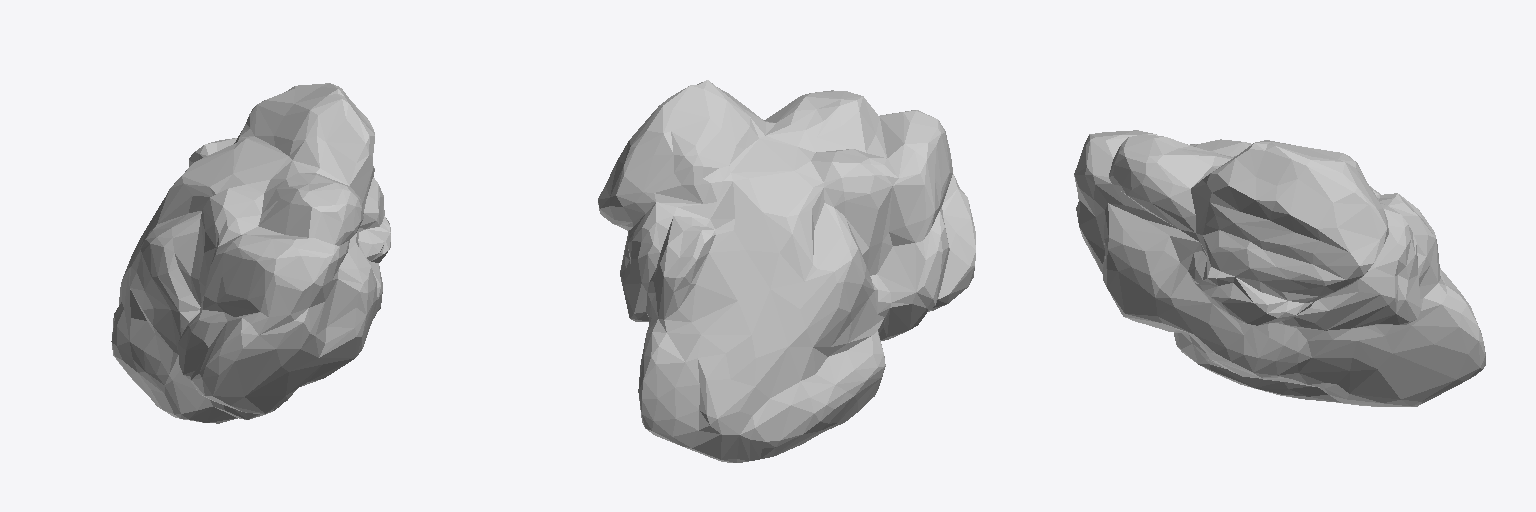
The model's file is asteroid.obj.
3 views of the same model, side by side, from view 1: azimuth 30°, elevation 25°; view 2: azimuth 150°, elevation 25°; view 3: azimuth 270°, elevation 25° (orthographic).
Visible parts, largest first — view 1: asteroid; view 2: asteroid; view 3: asteroid.
Part boxes in pixels (x1,y1,x2,y2): asteroid: (111,83,390,423); asteroid: (598,80,975,462); asteroid: (1074,130,1485,406).
Bounding box in the file's own units: 14.63 × 16 × 20.